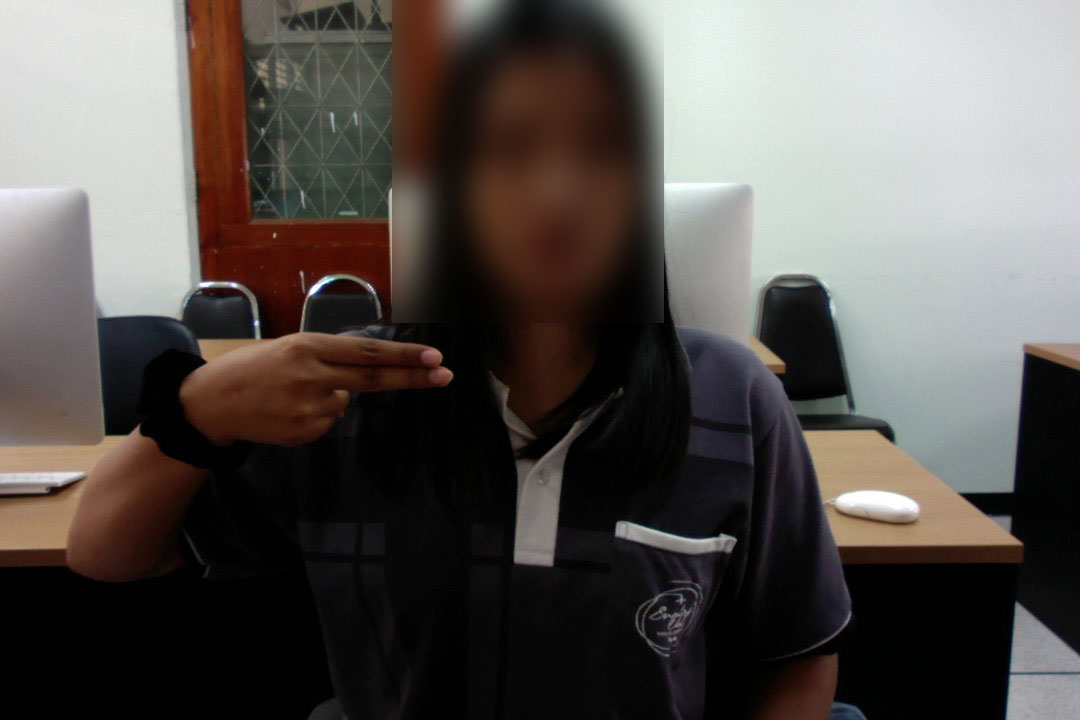hor: (199, 323, 460, 452)
